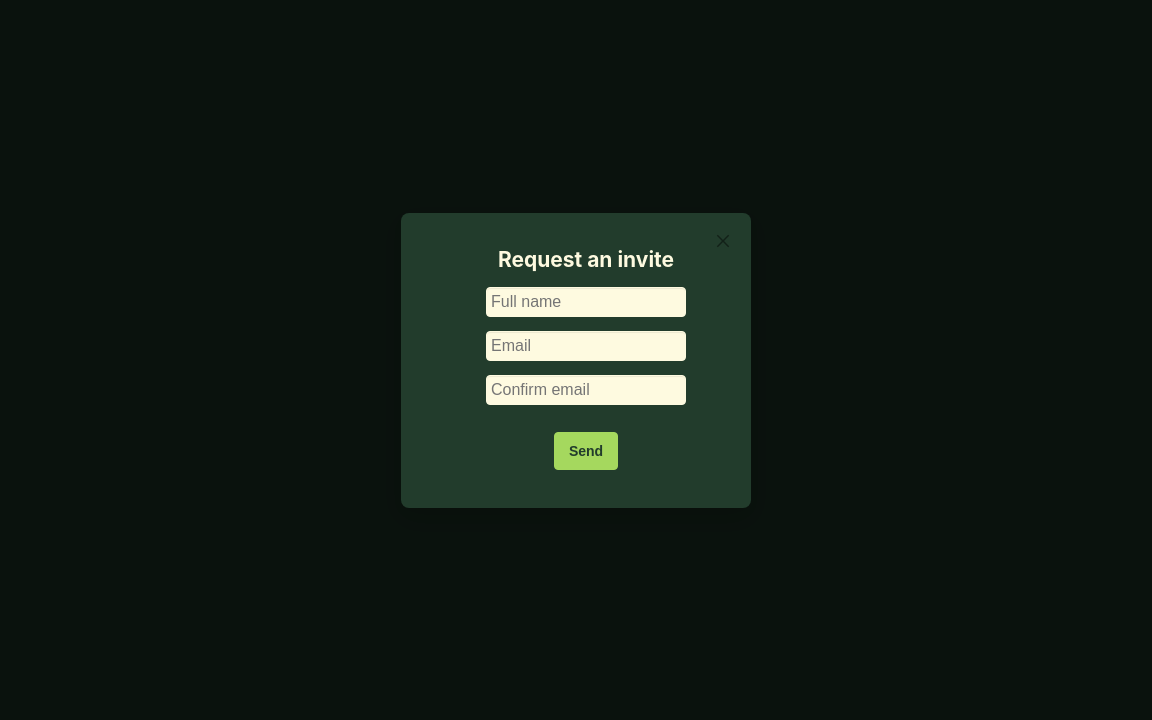
Test case: InvitationModal › displays validation error when form is submitted with missing fields
Click the button "Send" at (586, 450), box top-left (554, 432), bottom-right (618, 470)
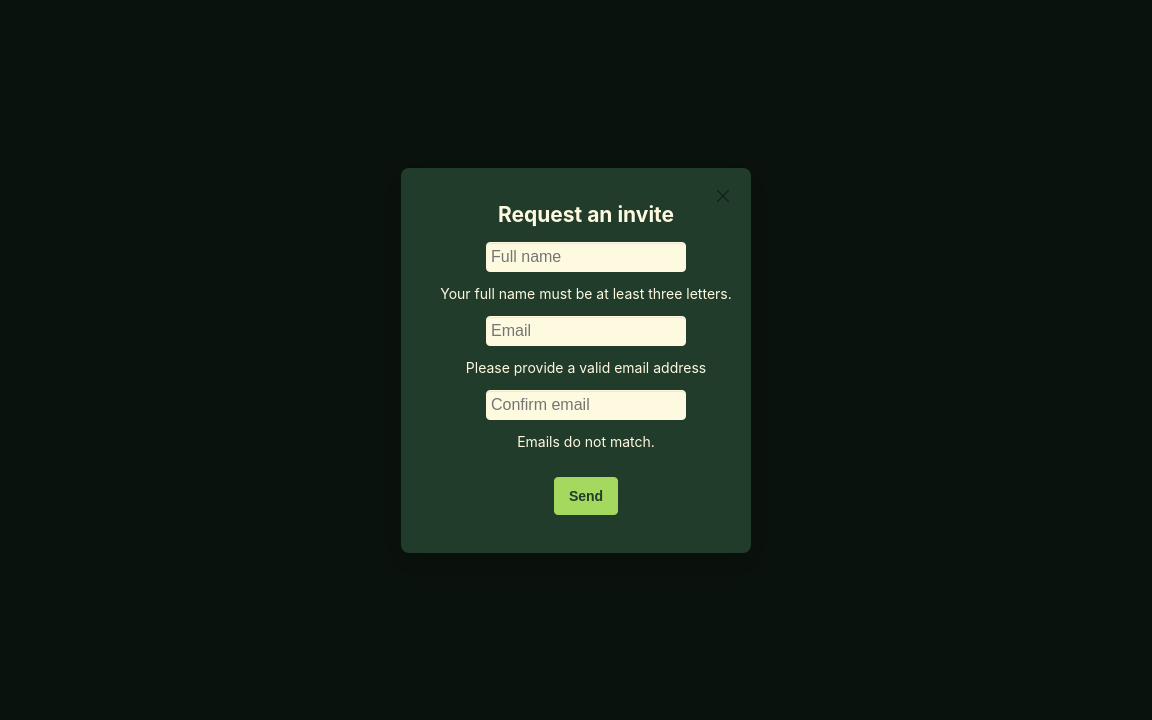
Expected: the text "Your full name must be at least three letters." is shown, top-left (440, 282), bottom-right (732, 304)
Expected: the text "Please provide a valid email address" is shown, top-left (466, 356), bottom-right (706, 378)
Expected: the text "Emails do not match." is shown, top-left (517, 430), bottom-right (655, 452)
